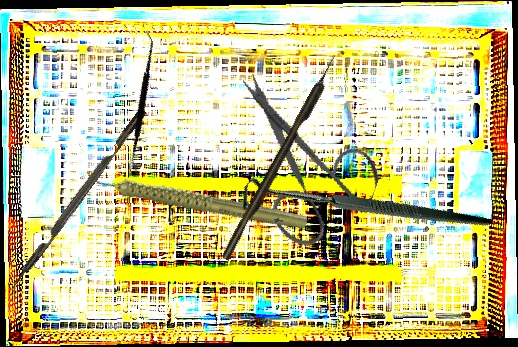Chopper: (3, 108, 156, 301)
Handpiece: (82, 122, 311, 274)
Hook Surgical: (233, 90, 493, 333), (219, 53, 342, 262)
Iris Scissors: (199, 68, 399, 263)
Spatula Surgical: (84, 30, 199, 173)
